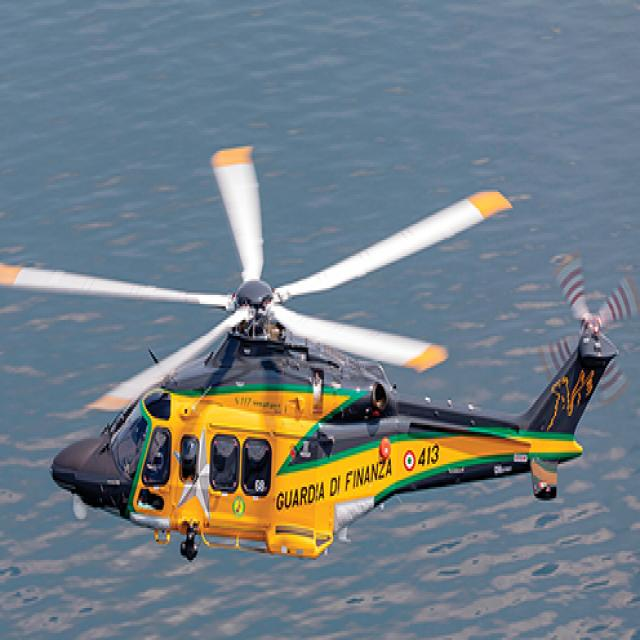helicopter: (1, 99, 640, 577)
